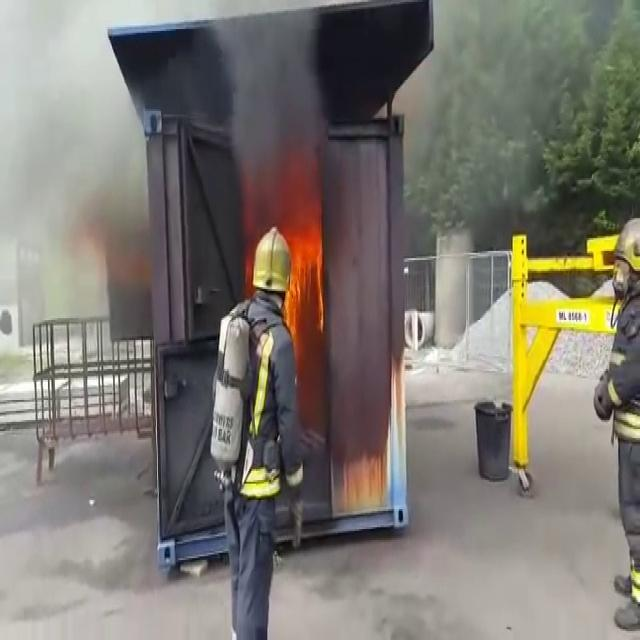Fire: (287, 212, 330, 420)
Smoke: (204, 0, 300, 122)
